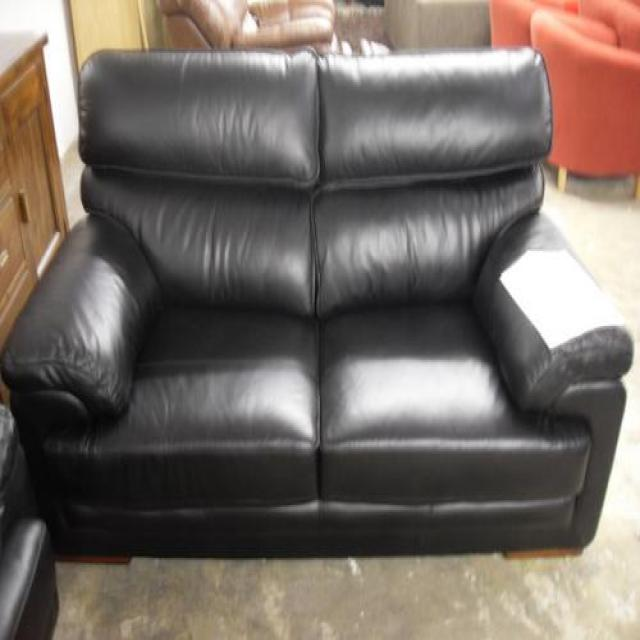sofa: (0, 47, 631, 559)
